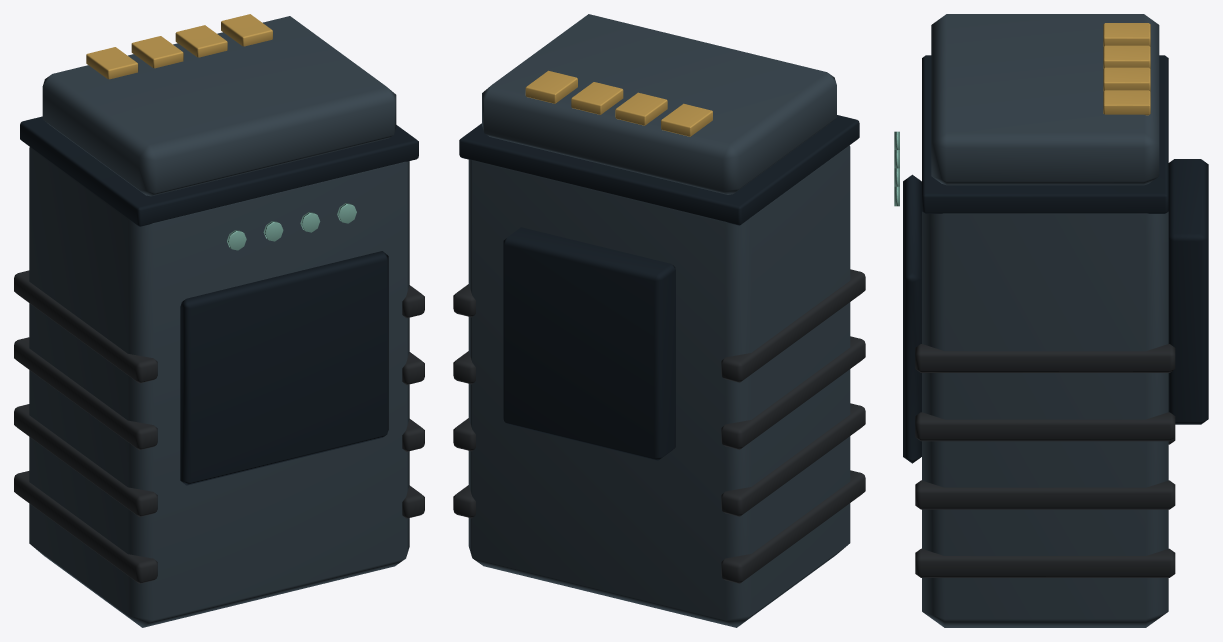
File: P063_battery_pack_rebuilt.glb
3 views of the same model, side by side, from view 1: azimuth 30°, elevation 25°; view 2: azimuth 150°, elevation 25°; view 3: azimuth 270°, elevation 25° (orthographic). The views are drawn at different scales.
Parts seen in each view (by area): view 1: shell, dark, rubber, gold, green; view 2: shell, dark, rubber, gold; view 3: shell, dark, rubber, gold, green.
Part boxes in pixels (x1,y1,x2,y2): shell: [29, 16, 409, 627]; dark: [20, 116, 418, 485]; rubber: [14, 270, 424, 583]; gold: [86, 14, 272, 79]; green: [227, 203, 356, 250]; shell: [468, 14, 850, 627]; dark: [459, 115, 859, 460]; rubber: [453, 269, 865, 583]; gold: [525, 70, 712, 136]; shell: [922, 14, 1168, 627]; dark: [903, 55, 1208, 463]; rubber: [915, 344, 1175, 577]; gold: [1103, 23, 1150, 115]; green: [894, 131, 899, 206].
Bounding box in the file's own units: 0.096 × 0.1555 × 0.0884.
